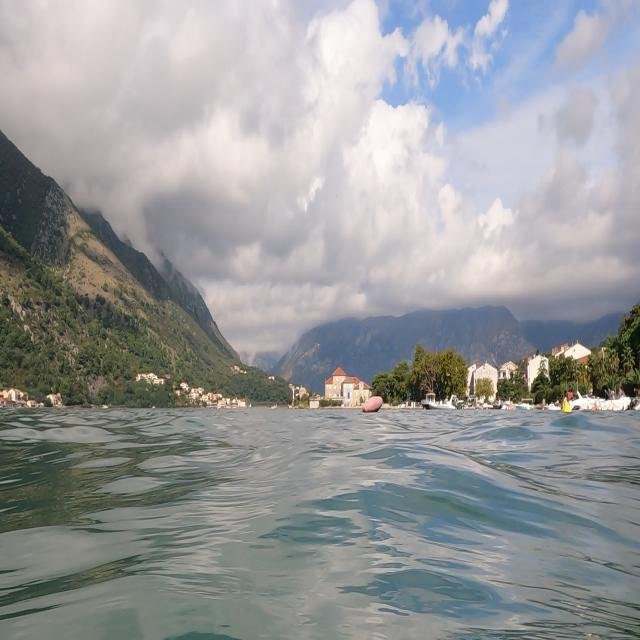boat: (583, 380, 640, 418), (414, 388, 470, 422)
buoy: (353, 389, 388, 420), (562, 391, 578, 422)
